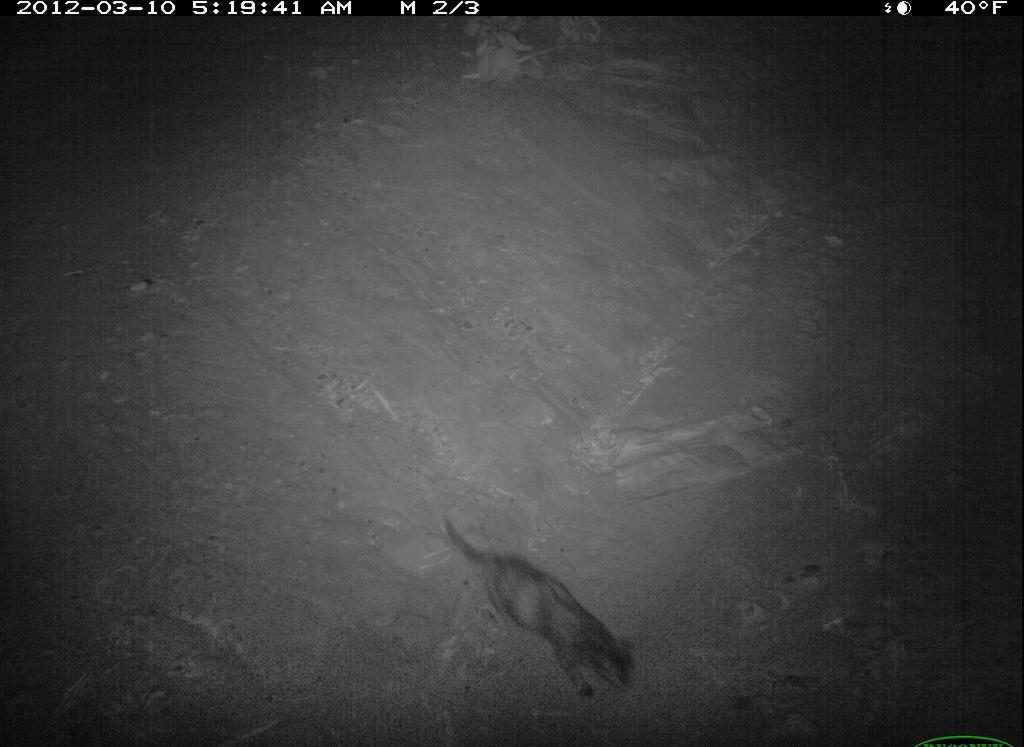cat: (437, 513, 646, 711)
